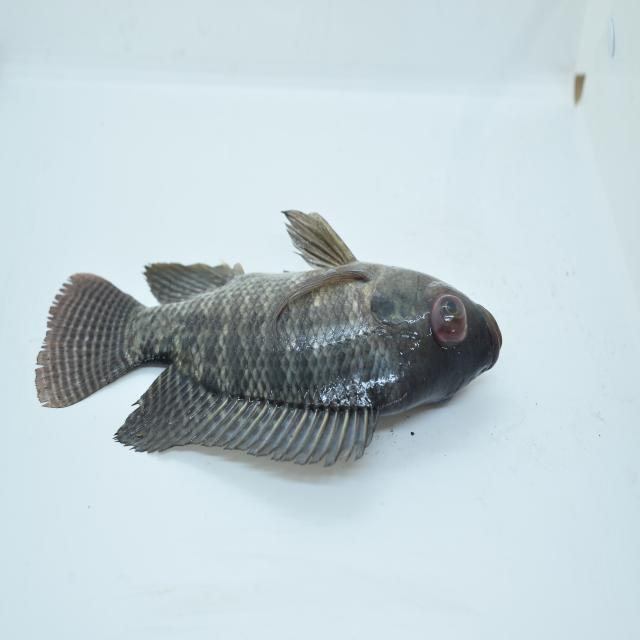streptococcus Disease: (35, 208, 504, 467)
